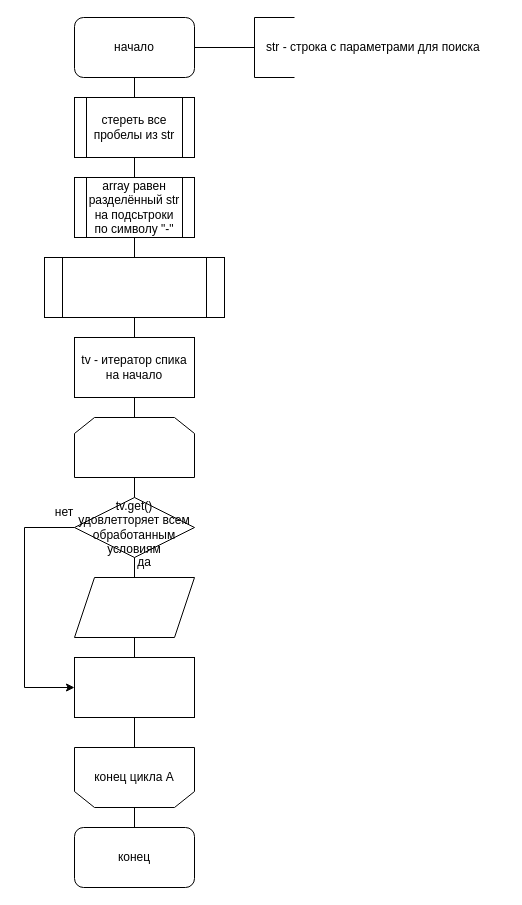
This 522x905 diagram has some shape labels left out. The shapes that lost their labels are listed below. From the top down, each one's box as (x1, y1, x2, y2) in pixels, then its label:
(44, 256, 224, 318): обработать все элементы array для определения параметров поиска
(74, 416, 194, 478): цикл A: пока i меньше размера array
(74, 576, 194, 638): tv.get()
(74, 656, 194, 718): tv++
